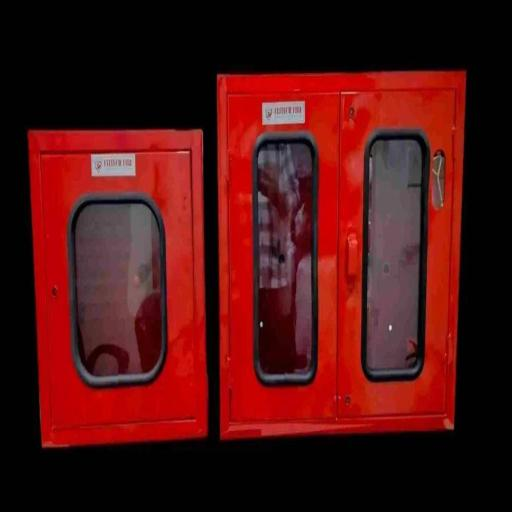fire_hose: (216, 65, 468, 442), (24, 123, 211, 445)
